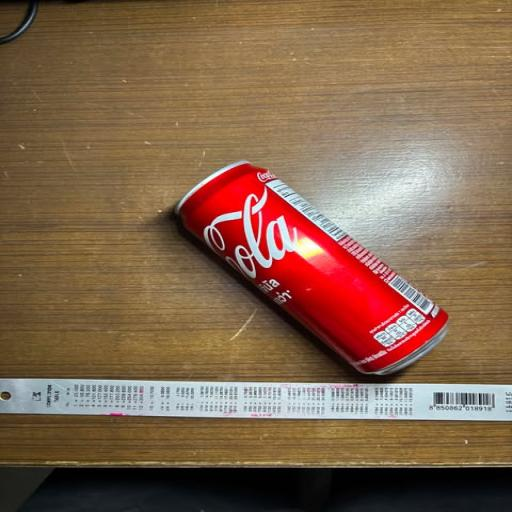canned: (136, 142, 483, 384)
